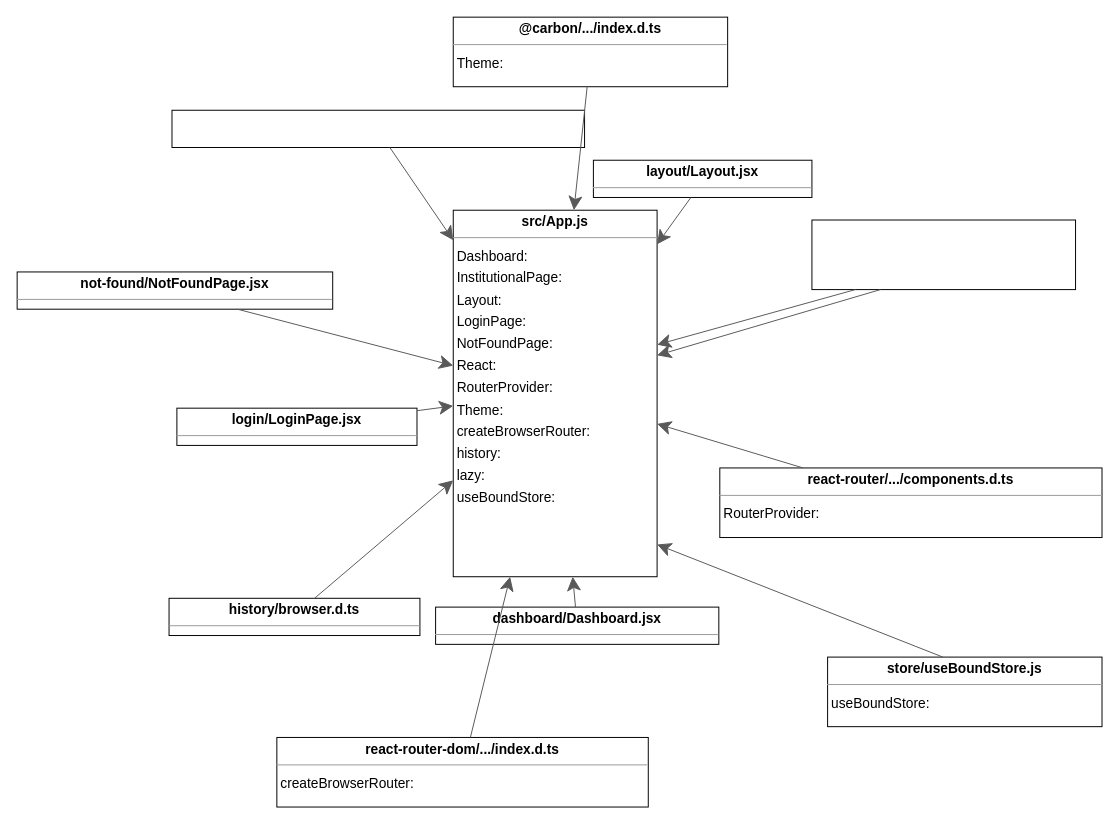
This 1119x824 diagram has some shape labels left out. Each missing label, with the box of its shape:
@types/.../index.d.ts lazy:: (811, 219, 1076, 290)
institutional/InstitutionalPage.jsx: (171, 109, 585, 147)
